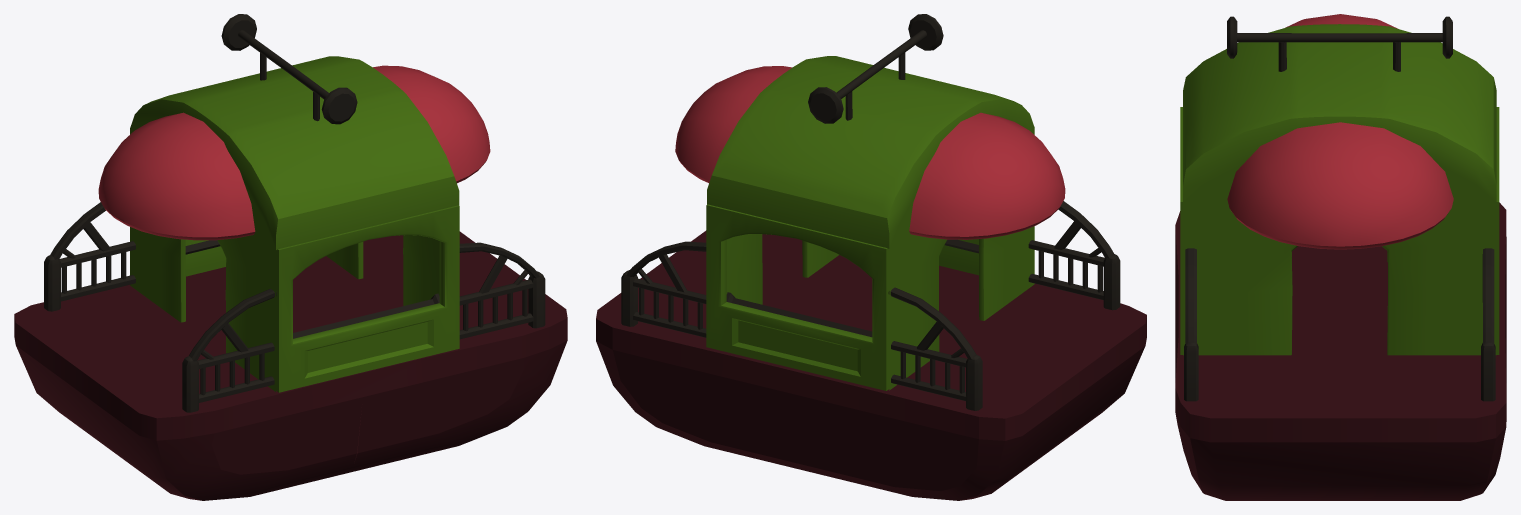
File: téléphérique_petit.fbx
The picture shows the model from 3 angles, left to right: view 1: azimuth 30°, elevation 25°; view 2: azimuth 150°, elevation 25°; view 3: azimuth 270°, elevation 25°; orthographic projection. The views are drawn at different scales.
Visible parts, largest first — view 1: Cube.497, Cube.495, Sphere.022, Cube.498, Cube.500, Cylinder.023, Cylinder.024; view 2: Cube.497, Cube.495, Sphere.022, Cube.498, Cube.500, Cylinder.023, Cylinder.024; view 3: Cube.495, Cube.497, Sphere.022, Cube.500, Cylinder.023, Cube.498, Cube.493.
Part boxes in pixels (bbox=[...]): Cube.497: bbox=[14, 231, 567, 500]; Cube.495: bbox=[130, 56, 459, 391]; Sphere.022: bbox=[98, 65, 490, 240]; Cube.498: bbox=[185, 205, 459, 392]; Cube.500: bbox=[44, 202, 545, 412]; Cylinder.023: bbox=[221, 14, 357, 124]; Cylinder.024: bbox=[185, 240, 439, 338]; Cube.497: bbox=[596, 230, 1146, 500]; Cube.495: bbox=[707, 56, 1034, 390]; Sphere.022: bbox=[675, 66, 1065, 239]; Cube.498: bbox=[706, 204, 978, 390]; Cube.500: bbox=[621, 201, 1120, 410]; Cylinder.023: bbox=[808, 14, 943, 123]; Cylinder.024: bbox=[726, 239, 978, 337]; Cube.495: bbox=[1183, 24, 1496, 355]; Cube.497: bbox=[1175, 202, 1506, 500]; Sphere.022: bbox=[1227, 14, 1453, 249]; Cube.500: bbox=[1184, 248, 1495, 401]; Cylinder.023: bbox=[1227, 16, 1452, 58]; Cube.498: bbox=[1180, 107, 1499, 354]; Cube.493: bbox=[1278, 42, 1400, 71].
Bounding box in the file's own units: 1206 × 1025 × 755.
